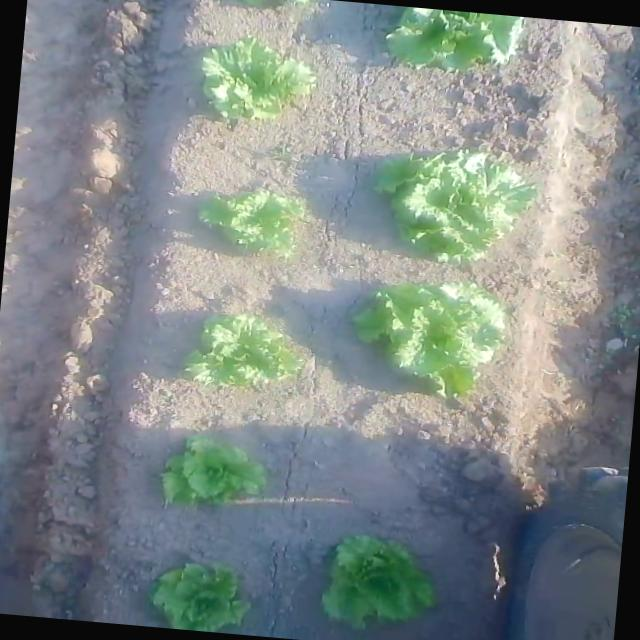Lettuce-Ready-to-Harvest: (365, 140, 539, 270), (346, 272, 512, 403), (318, 528, 443, 636), (191, 32, 320, 126), (180, 305, 308, 395), (152, 428, 270, 518), (195, 180, 308, 260)
